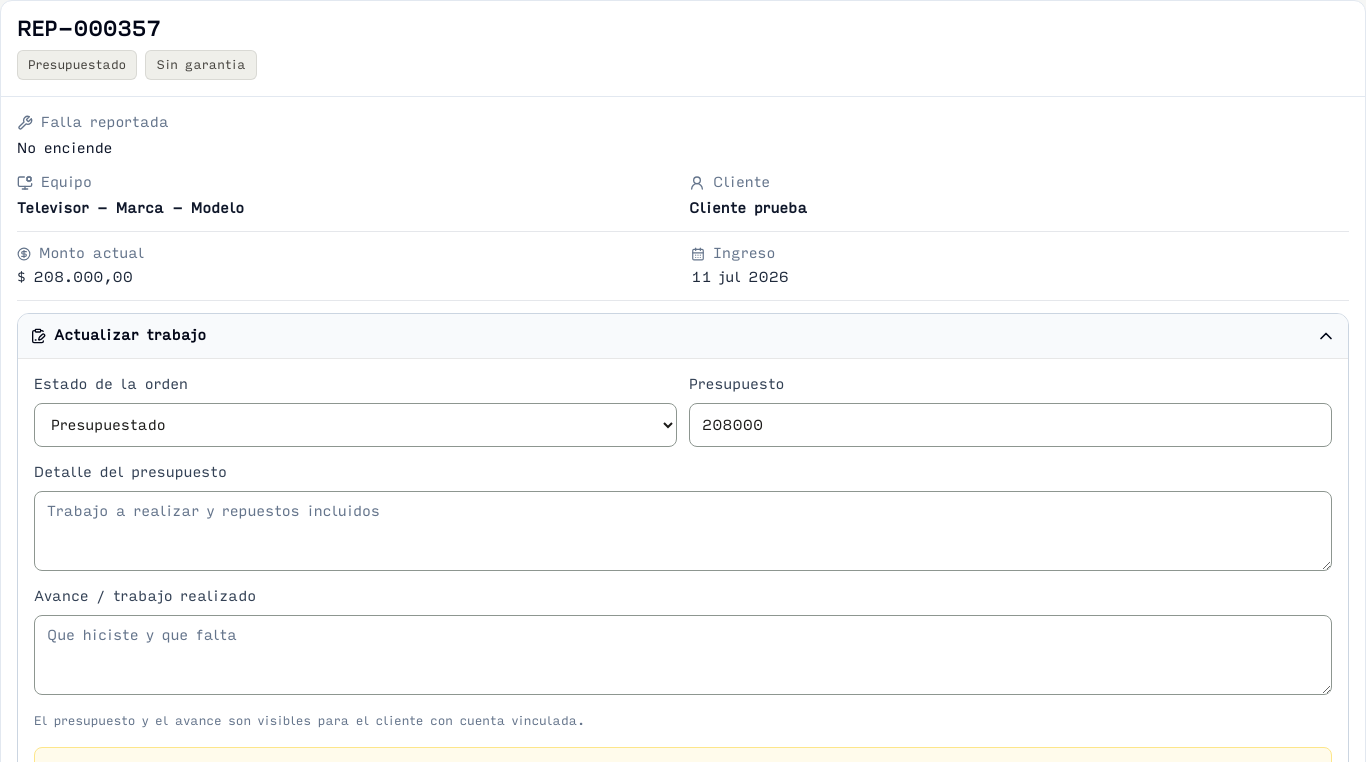
RepairAccessWorkshopCard › explica en celular como habilitar listo para retirar sin inventar la confirmacion
Select "Listo para retirar" in the dropdown labelled "Estado de la orden": (356, 425) [34,403,677,447]
(page scrolled)
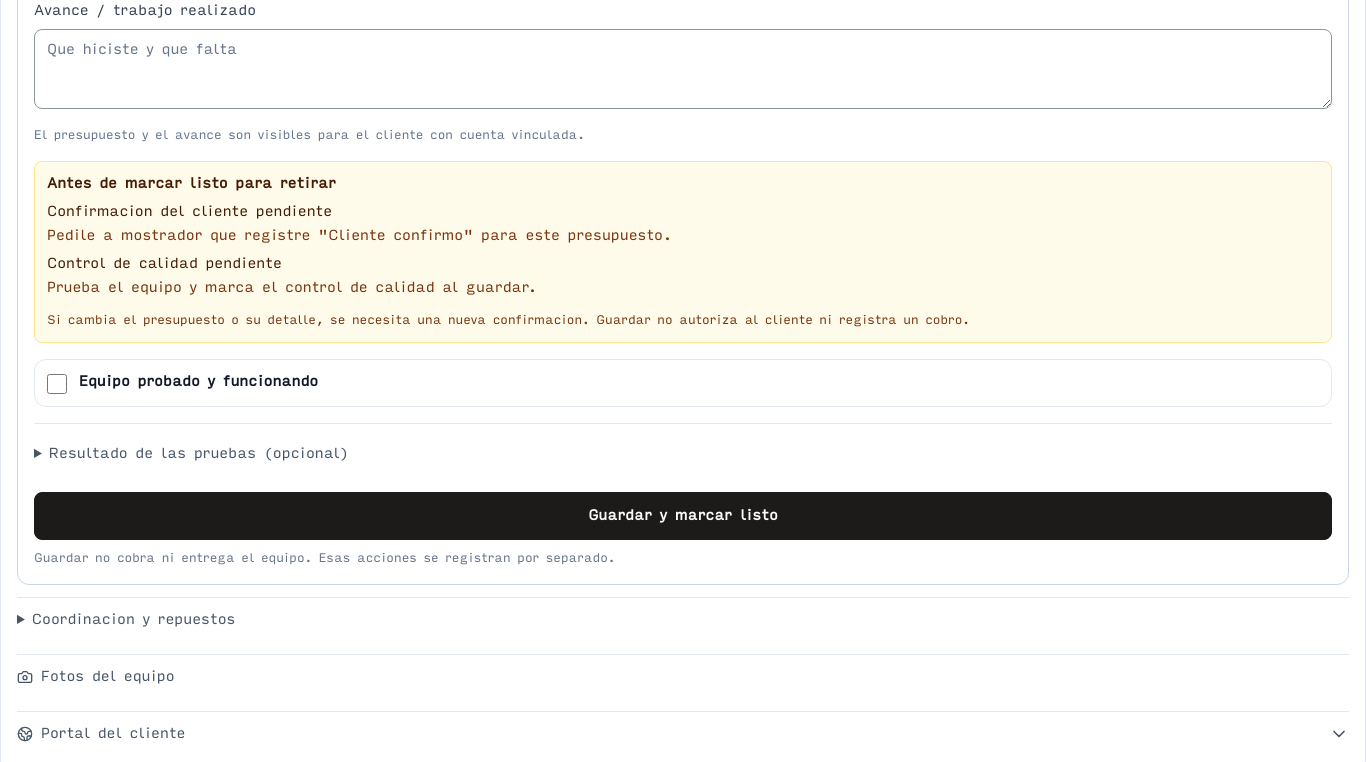
Now the checkbox labelled "Equipo probado y funcionando" is shown, box [47,374,67,394]
